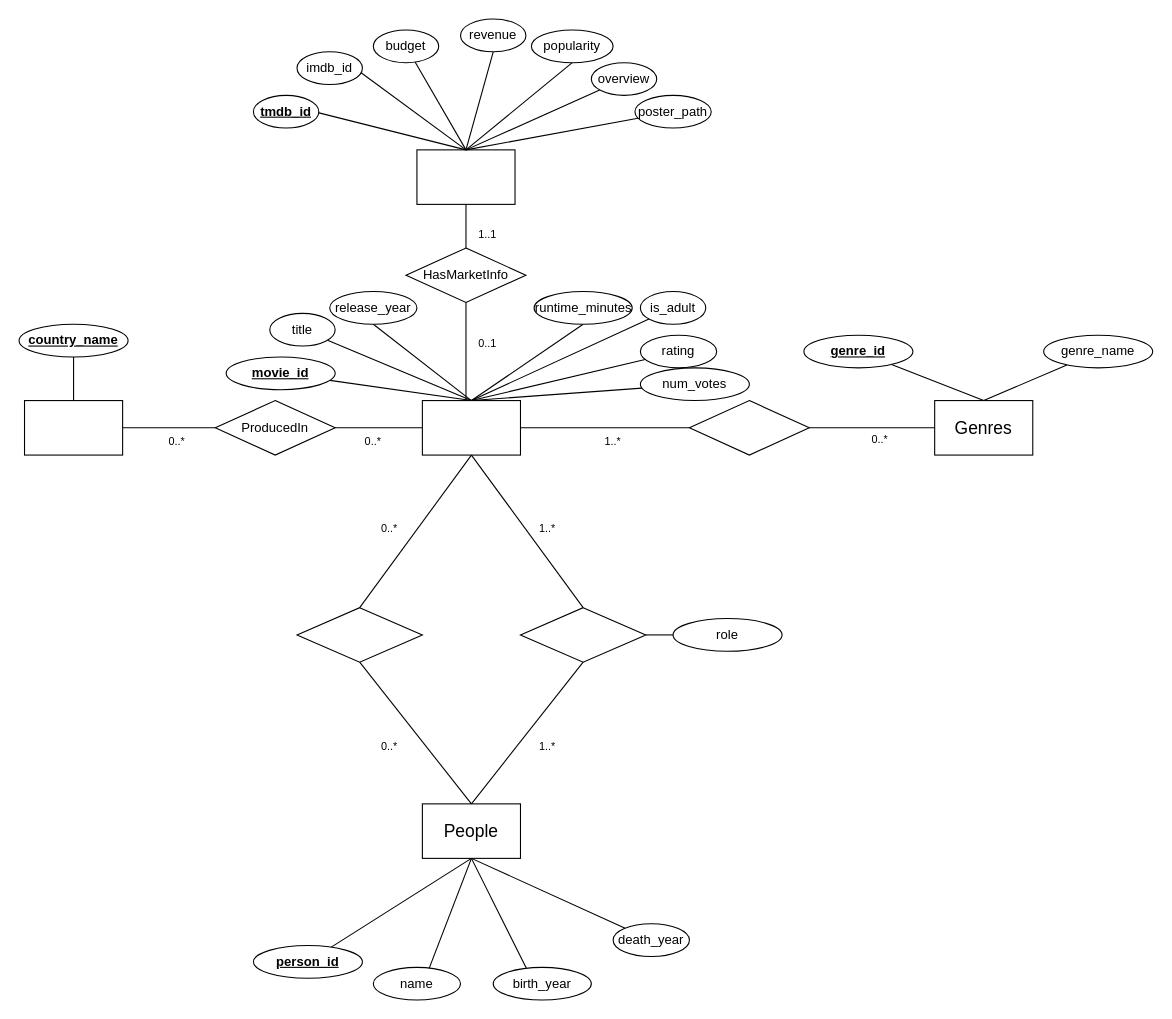
The diagram is 1172 pixels wide and 1019 high, and some of its shapes have lost their labels. The box of each missing label's shape, as (x1, y1, x2, y2) in pixels:
Belongs to: (688, 399, 809, 455)
Countries: (23, 399, 123, 455)
HasRoleIn: (519, 607, 646, 662)
MarketInfo: (416, 149, 515, 204)
Movies: (421, 399, 520, 455)
PersonKnownFor: (296, 607, 422, 662)
